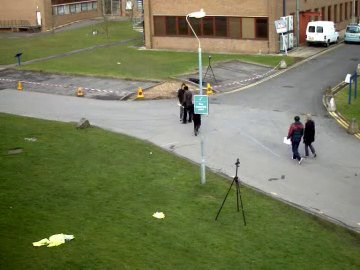person: (177, 84, 195, 127), (188, 100, 205, 138), (178, 87, 195, 125)
